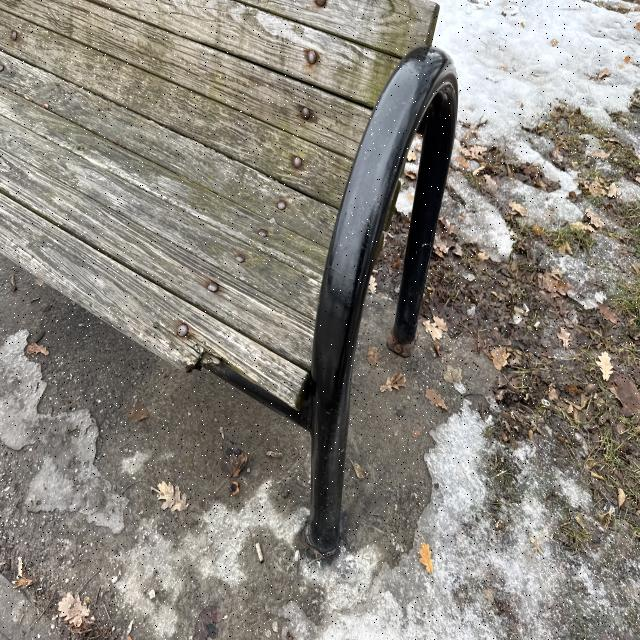Bench: (11, 8, 462, 528)
